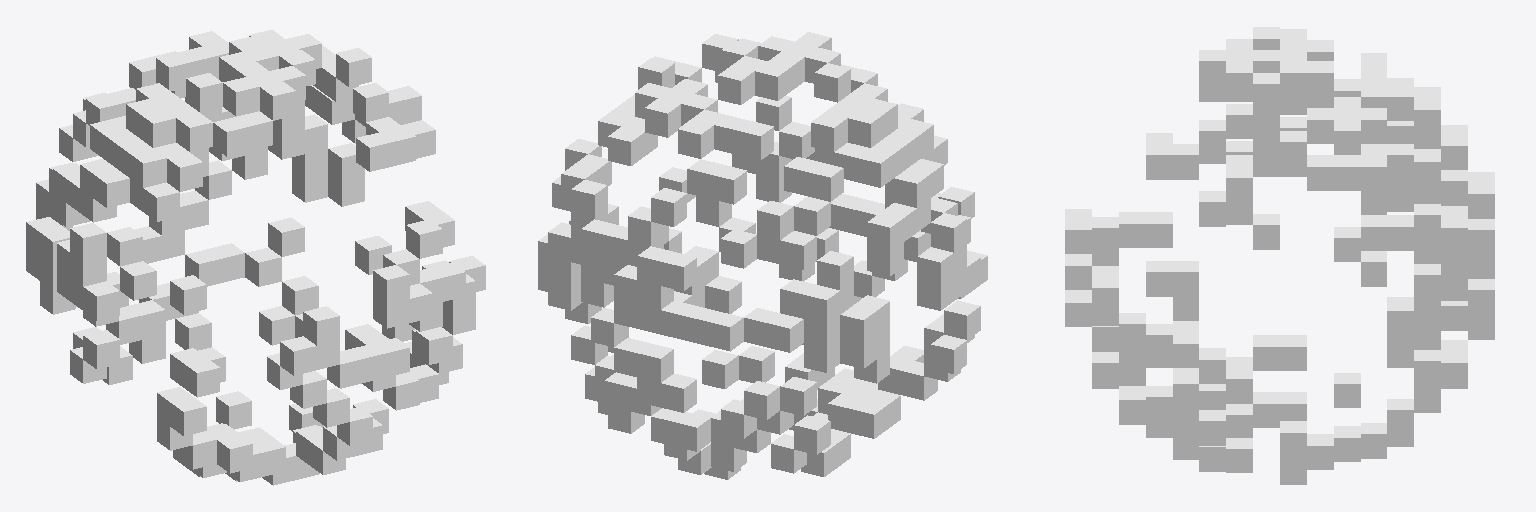
Rendered from luz-16c.obj.
The picture shows the model from 3 angles: view 1: azimuth 30°, elevation 25°; view 2: azimuth 150°, elevation 25°; view 3: azimuth 270°, elevation 25°; orthographic projection.
Parts seen in each view (by area): view 1: object 1; view 2: object 1; view 3: object 1.
Part boxes in pixels (x1,y1,x2,y2): object 1: (26,30,485,485); object 1: (538,32,987,479); object 1: (1065,27,1494,484).
Size of the model in its own units: 1.6 by 1.6 by 1.6.